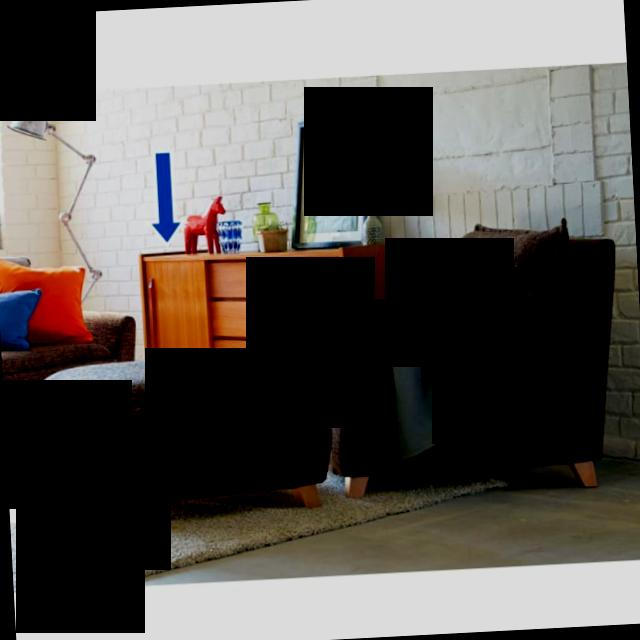vintage sofa: (265, 204, 640, 518)
